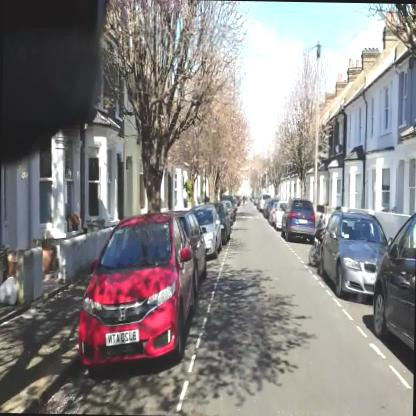car: (78, 212, 194, 376), (371, 201, 415, 416), (318, 212, 390, 297), (168, 209, 208, 286), (190, 205, 222, 259), (280, 198, 316, 242), (210, 202, 232, 245), (274, 201, 286, 230)
